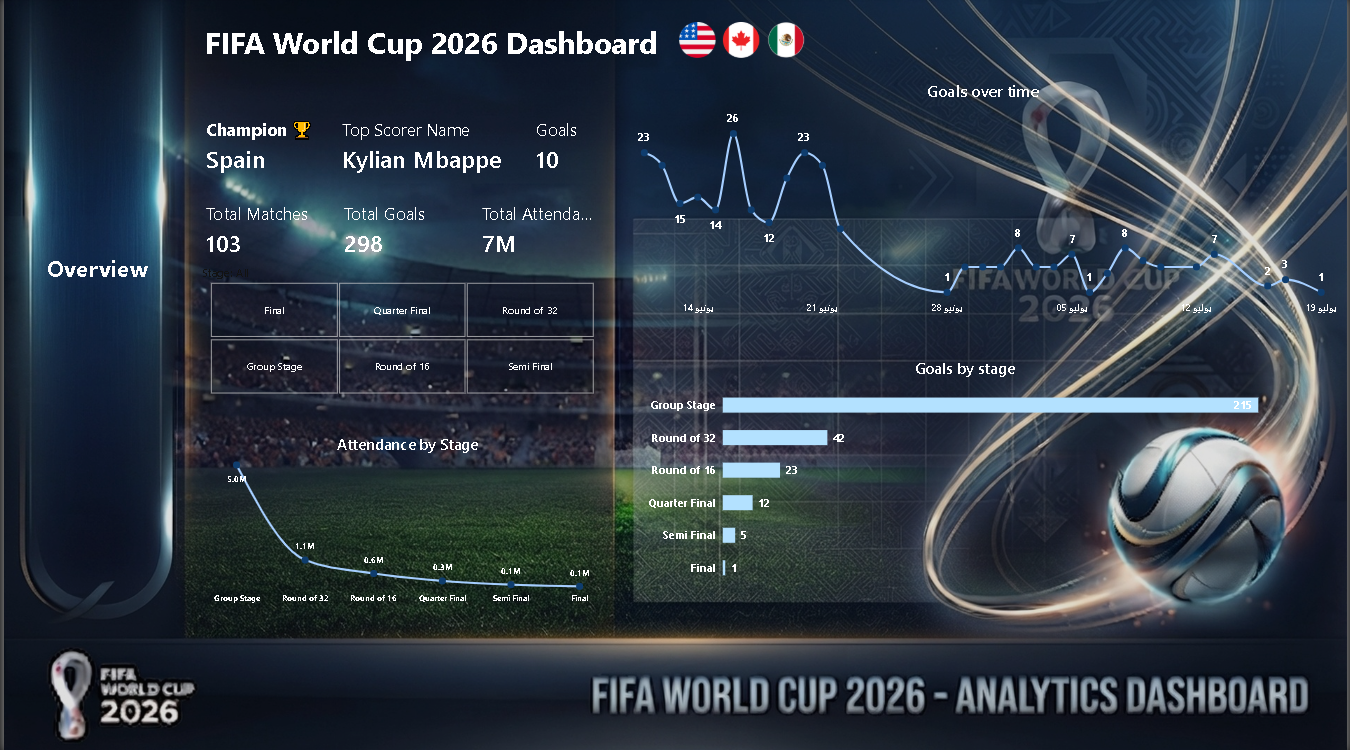

The page's visual inventory and layout, read from the dashboard file:
{"tool":"powerbi","page":{"name":"Overview","canvas":[1920,1080],"ordinal":0},"visuals":[{"type":"textbox","box":[274.3,35.2,759.6,82.1],"z":0},{"type":"cardVisual","fields":{"Data":["Dax.Champion"]},"box":[276.6,159.4,178.2,107.8],"z":1000},{"type":"cardVisual","fields":{"Data":["Dax.Top Scorer Name"]},"box":[471.2,159.4,389.2,107.8],"z":2000},{"type":"cardVisual","fields":{"Data":["Dax.Top Scorer Goals"]},"box":[747.9,159.4,91.4,107.8],"z":3000},{"type":"cardVisual","fields":{"Data":["Dax.Total Matches","Dax.Total Goals","Dax.Total Attendance"]},"box":[276.6,283.7,647.1,98.5],"z":4000},{"type":"image","box":[958.9,35.2,63.3,51.6],"z":5000},{"type":"slicer","fields":{"Values":["4_Matches.Stage"]},"box":[274.9,382.8,585.8,186.1],"z":6000},{"type":"barChart","title":"Goals by stage","fields":{"Category":["4_Matches.Stage"],"Y":["Dax.Goals by Stage"]},"box":[923.7,136,919,454.8],"z":7000},{"type":"lineChart","fields":{"Category":["4_Matches.Stage"],"Y":["Dax.Attendance by Stage"]},"box":[274.3,609.6,602.5,279],"z":8000},{"type":"textbox","box":[56.3,365.7,152.4,70.3],"z":9000},{"type":"image","box":[1022.2,35.2,63.3,51.6],"z":10000},{"type":"image","box":[1085.5,35.2,63.3,51.6],"z":11000}]}

Visuals, with their boxes in screenshot pixels (x1, y1, x2, y2), scaled from the page's 1920x1080 canvas onto the 1350x750 screenshot:
textbox: [193, 24, 727, 81]
cardVisual - Dax.Champion: [194, 111, 320, 186]
cardVisual - Dax.Top Scorer Name: [331, 111, 605, 186]
cardVisual - Dax.Top Scorer Goals: [526, 111, 590, 186]
cardVisual - Dax.Total Matches x Dax.Total Goals: [194, 197, 649, 265]
image: [674, 24, 719, 60]
slicer - 4_Matches.Stage: [193, 266, 605, 395]
"Goals by stage" barChart: [649, 94, 1296, 410]
lineChart - 4_Matches.Stage x Dax.Attendance by Stage: [193, 423, 616, 617]
textbox: [40, 254, 147, 303]
image: [719, 24, 763, 60]
image: [763, 24, 808, 60]
